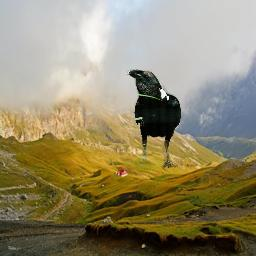Crow: (126, 69, 181, 168)
